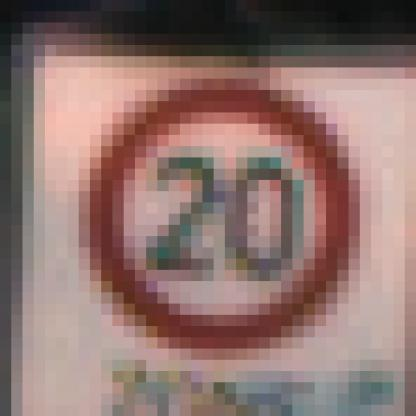Speed Limit 20: (91, 82, 356, 347)
